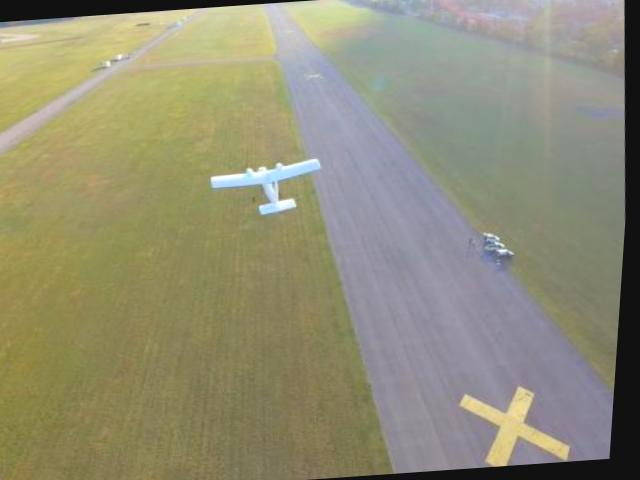uav: (208, 149, 326, 220)
